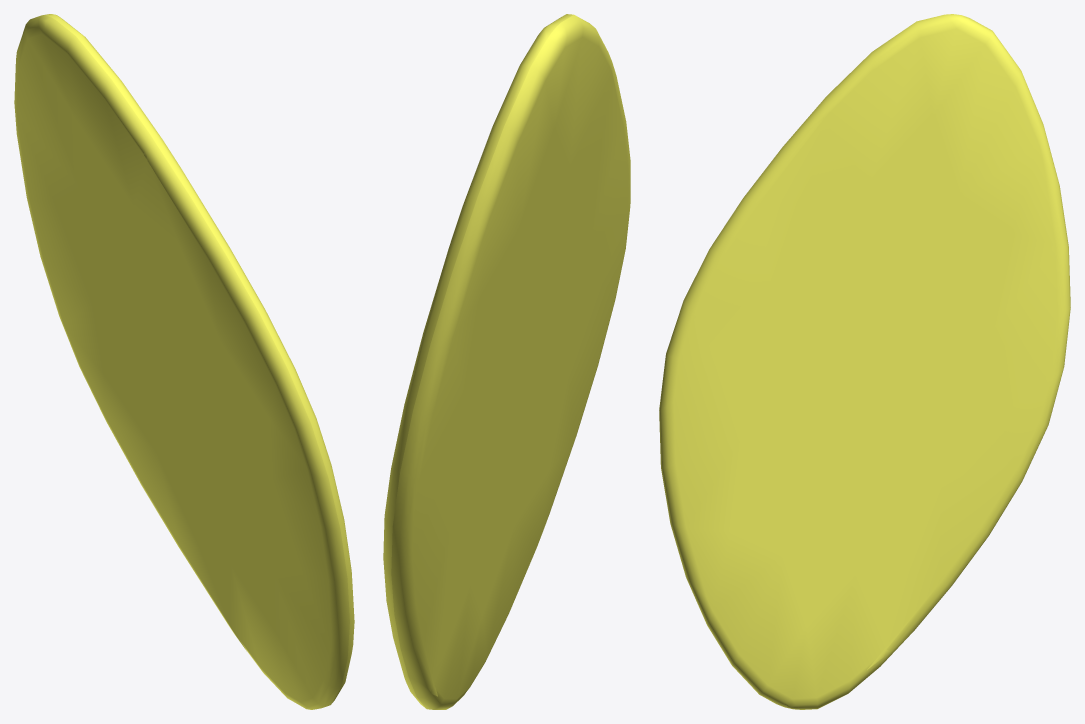
File: fallLeaf_1.glb
3 views of the same model, side by side, from view 1: azimuth 30°, elevation 25°; view 2: azimuth 150°, elevation 25°; view 3: azimuth 270°, elevation 25° (orthographic). The views are drawn at different scales.
Visible parts, largest first — view 1: Leaf_DarkGreen_Bent.416; view 2: Leaf_DarkGreen_Bent.416; view 3: Leaf_DarkGreen_Bent.416.
Boxes of the visible parts, x1,y1,x2,y2 form: Leaf_DarkGreen_Bent.416: (14, 14, 354, 709); Leaf_DarkGreen_Bent.416: (383, 14, 630, 709); Leaf_DarkGreen_Bent.416: (659, 14, 1070, 709).
Size of the model in its own units: 0.7027 by 2.36 by 1.42.
